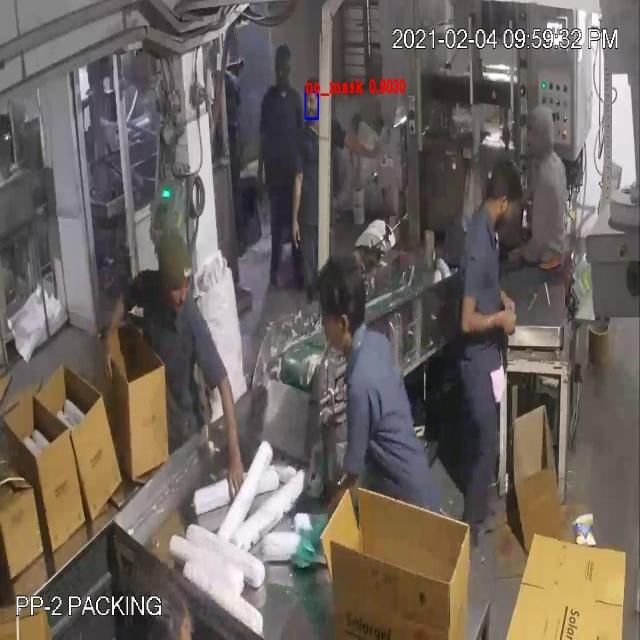No_Gloves: (16, 54, 489, 434)
